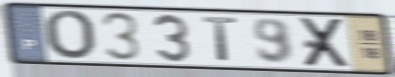3: (99, 10, 143, 64), (151, 12, 192, 65)
9: (251, 16, 296, 67)
O: (41, 8, 97, 62)
T: (200, 15, 241, 64)
X: (297, 16, 353, 69)
